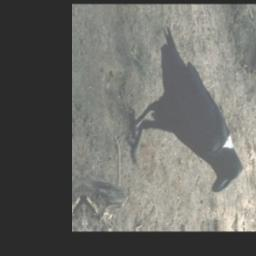Crow: (120, 22, 246, 195)
